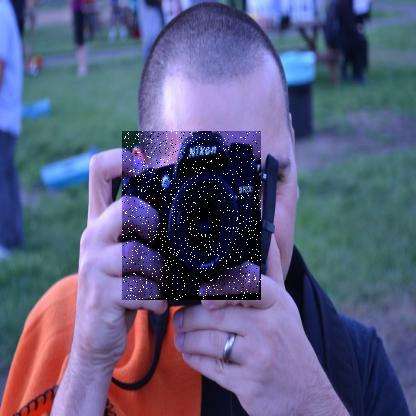Camera: (123, 132, 263, 302)
